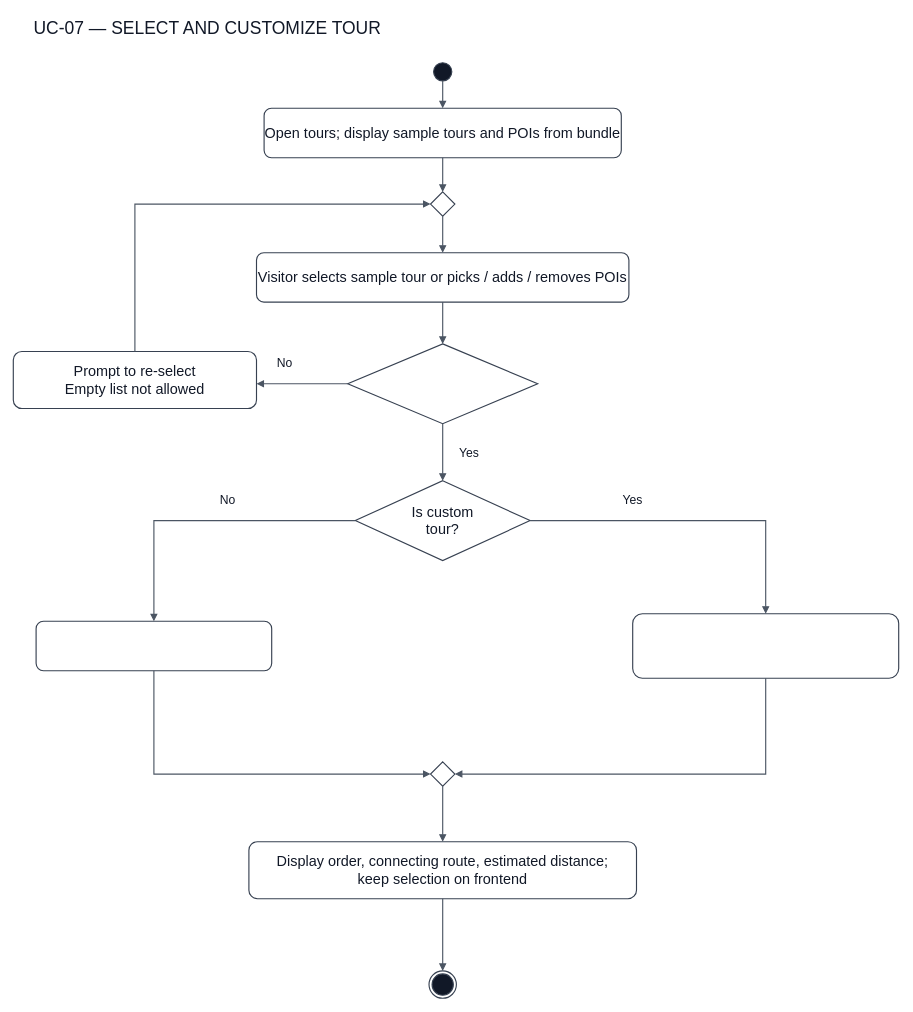
The diagram is 913 pixels wide and 1012 high, and some of its shapes have lost their labels. Here are the shapes that lost their labels. From the top down, the box of each, then its label:
(347, 343, 538, 424): Valid POI list exists?
(35, 620, 272, 671): Keep sample tour order
(632, 613, 899, 679): Select starting point; order POIs on frontend
